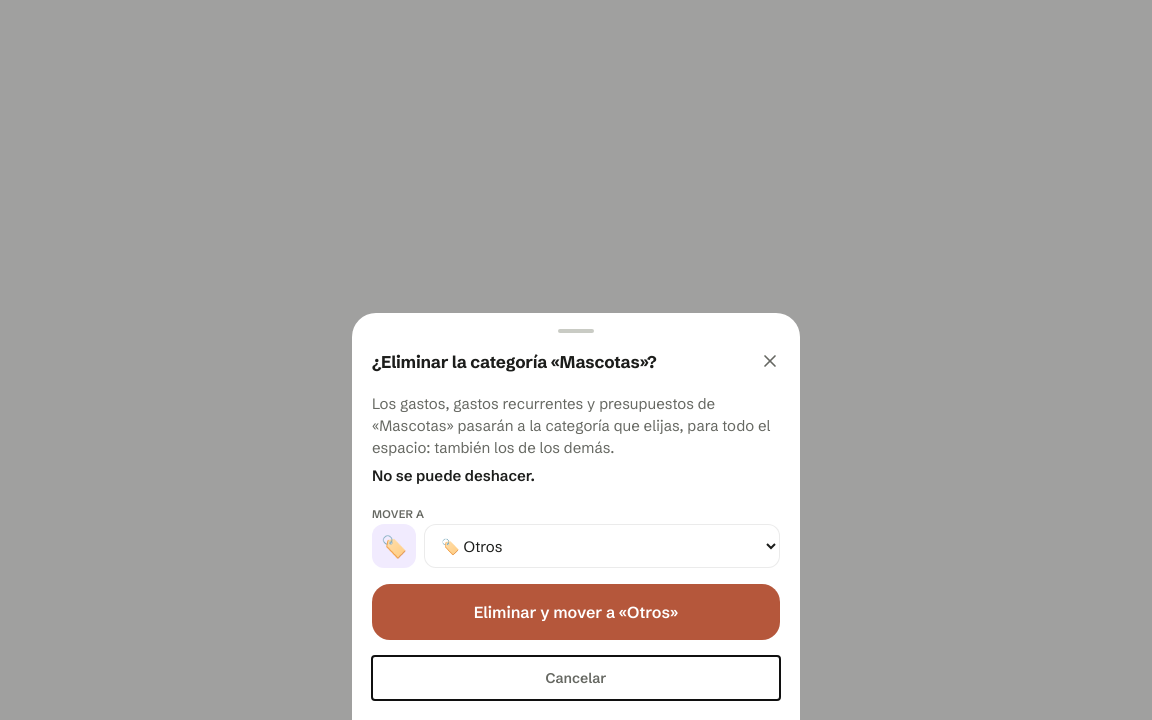
Test: DeleteCategoryModal › a 409 BUDGET_CONFLICT offers another target and "Ir a Presupuestos"
The image size is (1152, 720).
Step 1. Select "🏷️ Compras" in the dropdown labelled "Mover a" → (602, 546), box left=424, top=524, right=780, bottom=568
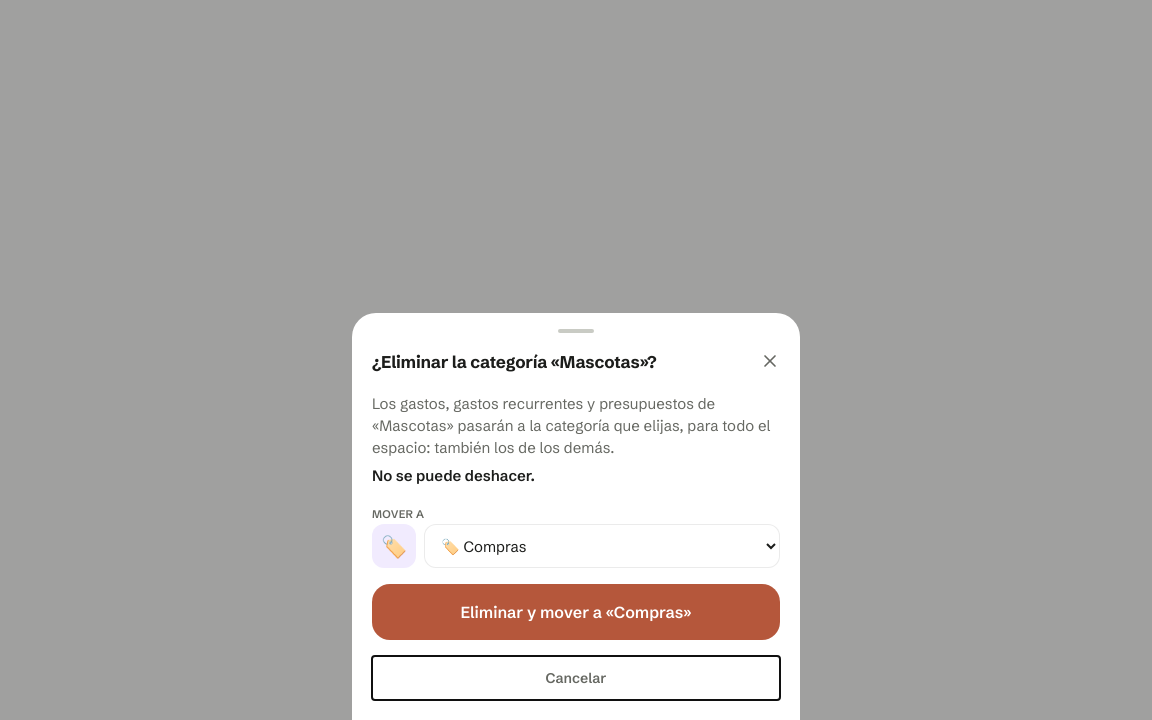
Expected: the button with test id "confirm-sheet-confirm" reads "Eliminar y mover a «Compras»"
Step 2. Click the button with test id "confirm-sheet-confirm" → click(576, 612), box left=372, top=584, right=780, bottom=640
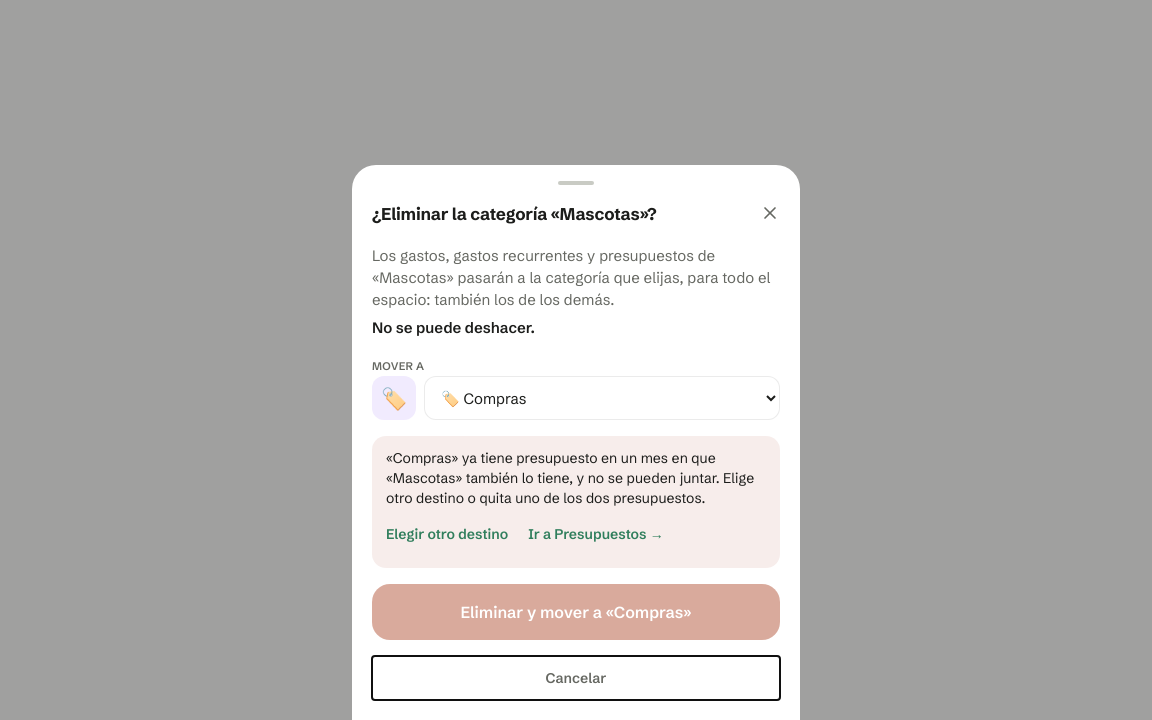
Expected: the message with test id "category-budget-conflict" shows "«Compras» ya tiene presupuesto en un mes en que «Mascotas» también lo tiene", left=372, top=436, right=780, bottom=568
Expected: the button with test id "confirm-sheet-confirm" is disabled, left=372, top=584, right=780, bottom=640
Step 3. Click the button "Elegir otro destino" → click(447, 534), box left=386, top=512, right=508, bottom=556
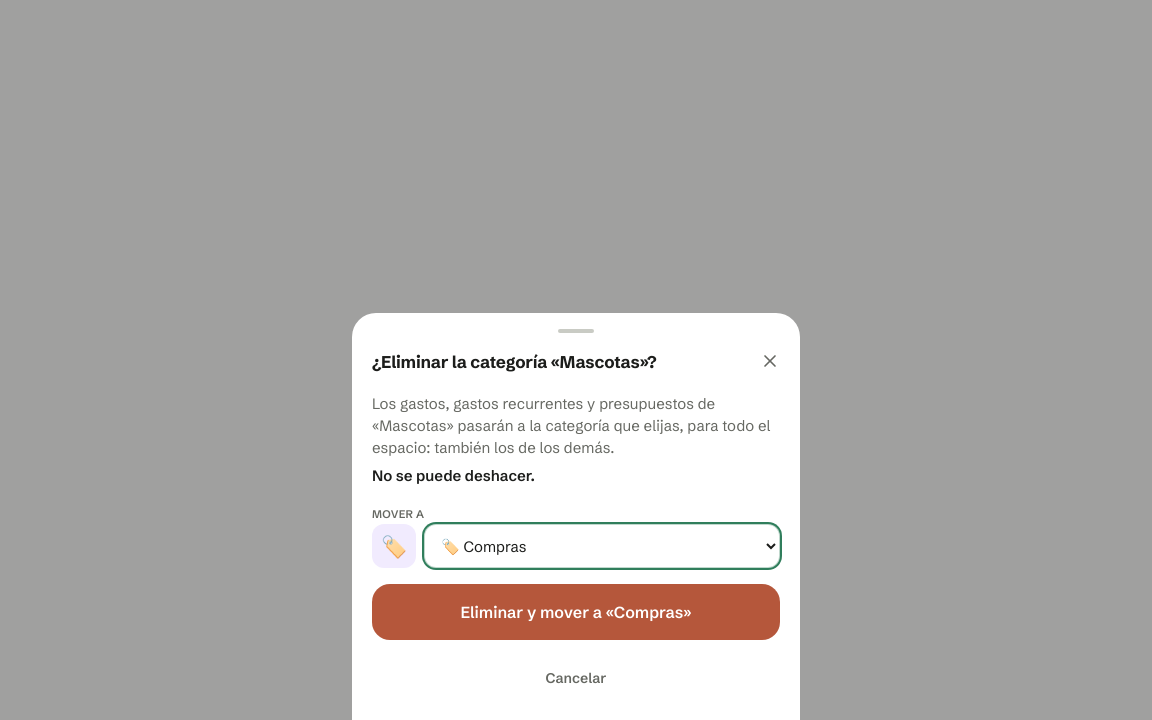
Expected: the message with test id "category-budget-conflict" is gone
Expected: the button with test id "confirm-sheet-confirm" is enabled, left=372, top=584, right=780, bottom=640
